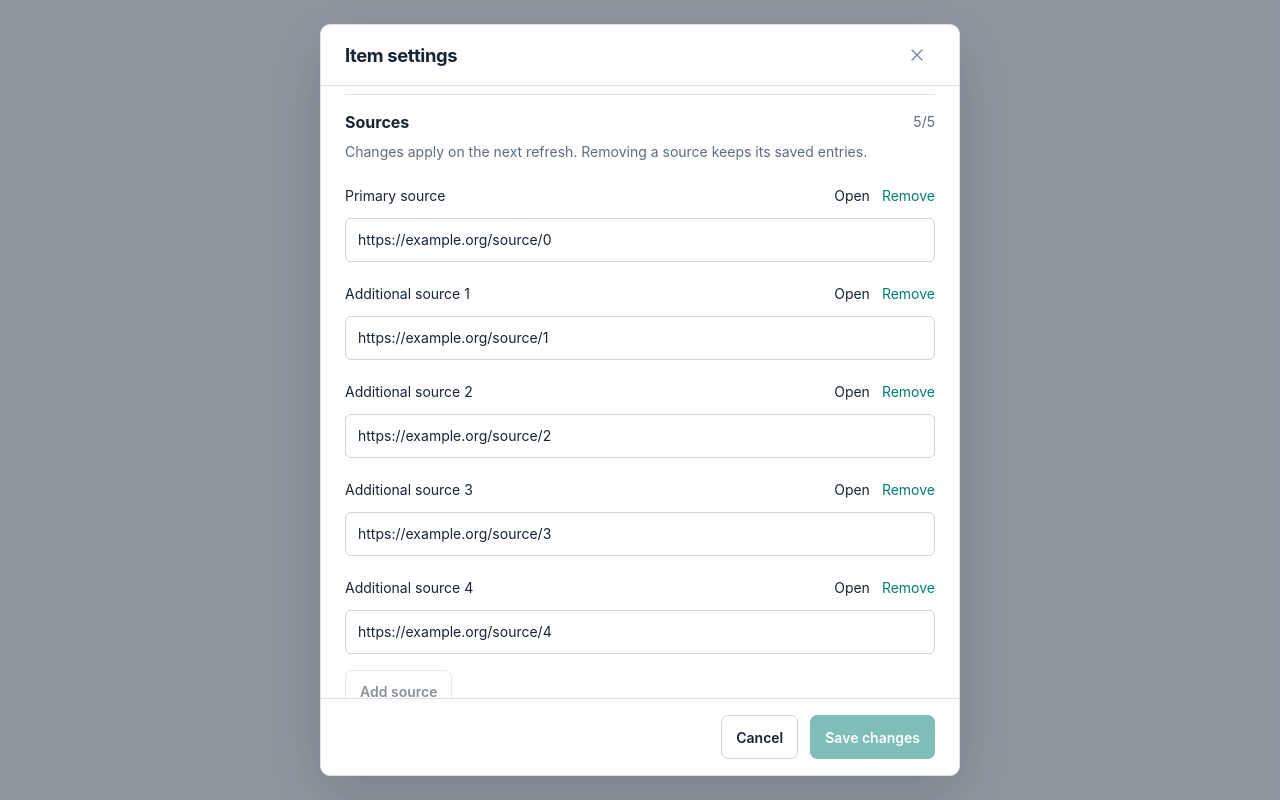
Test: five sources is the maximum and removing one permits another
The image size is (1280, 800).
(page scrolled)
Expected: the button "Add source" is disabled, top-left (345, 670), bottom-right (452, 698)
Click the button with aria-label "Remove source 3". click: (908, 392)
box: top-left (882, 376), bottom-right (935, 408)
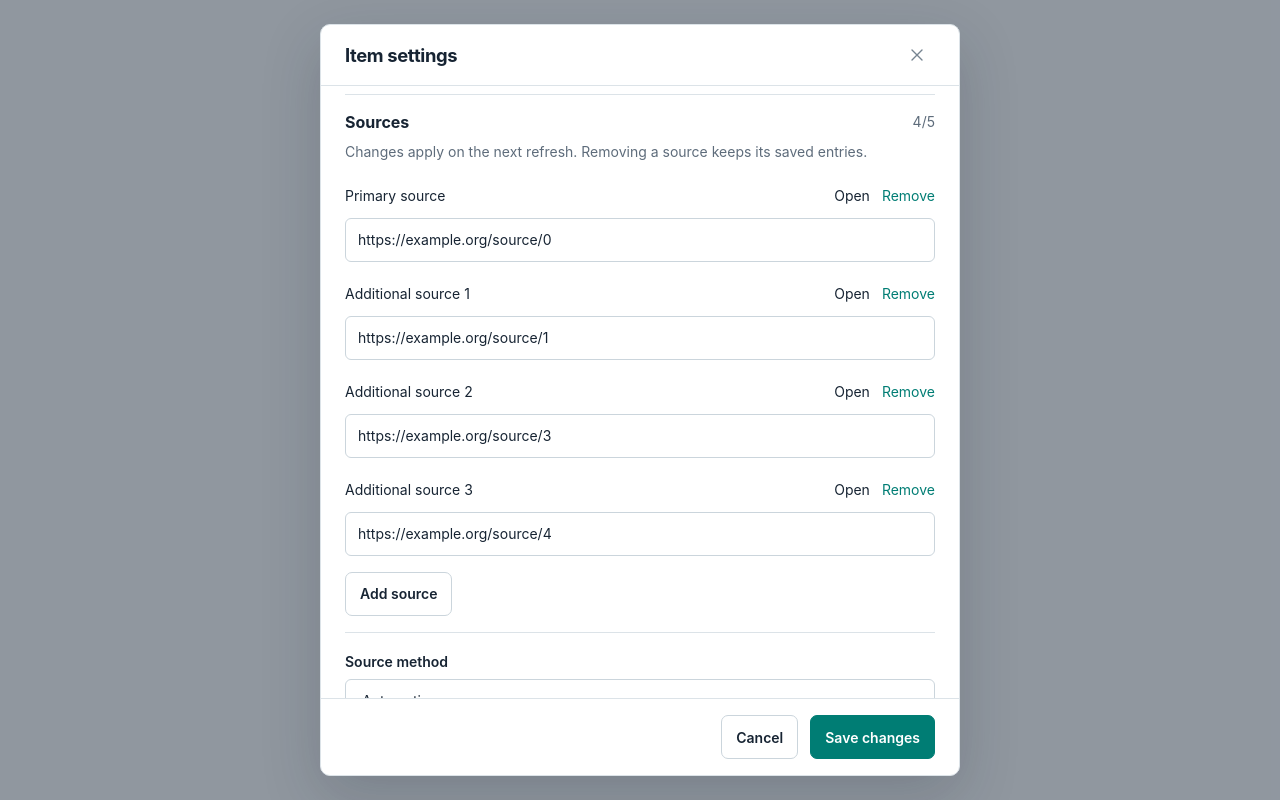
Expected: the button "Add source" is enabled
Click the button "Add source". click: (399, 594)
box: top-left (345, 572), bottom-right (452, 616)
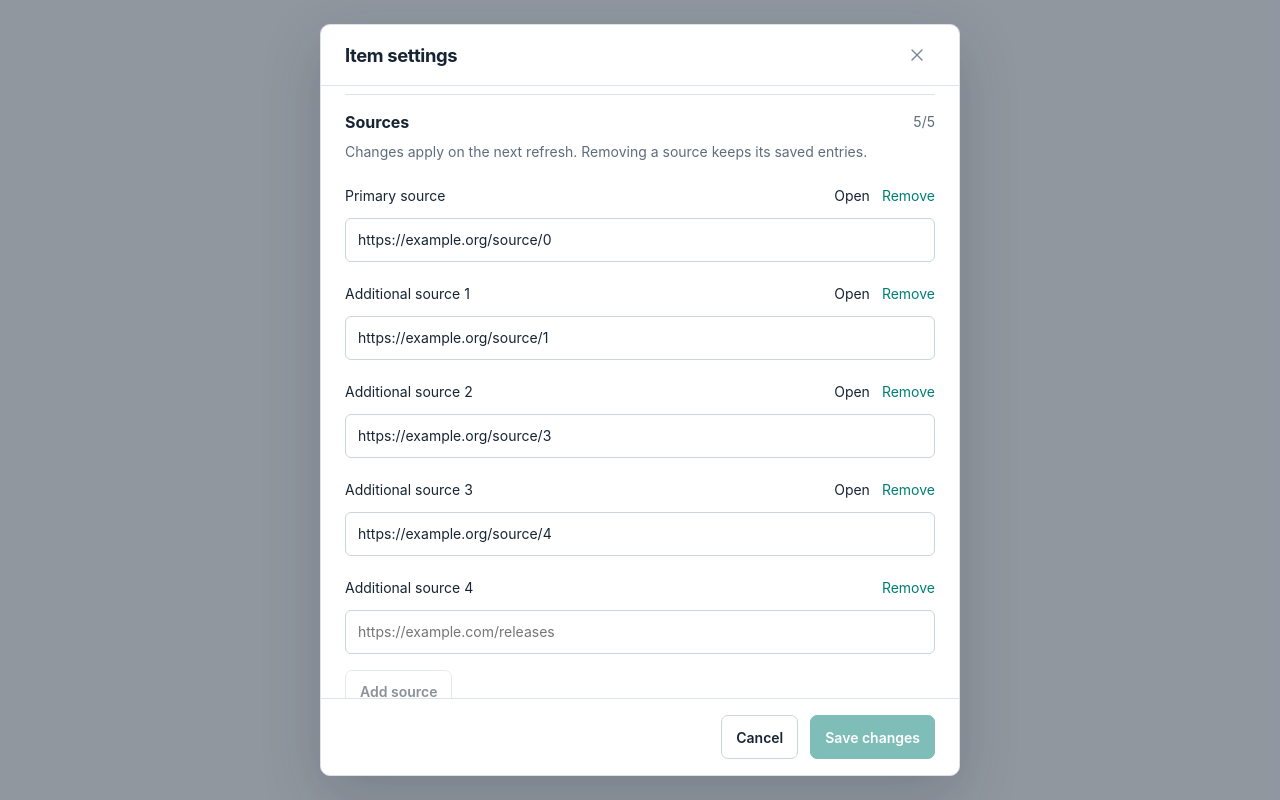
Expected: the field named "Source URL 5" is empty, top-left (345, 610), bottom-right (935, 654)
Expected: the button "Save changes" is disabled, top-left (810, 715), bottom-right (935, 759)
